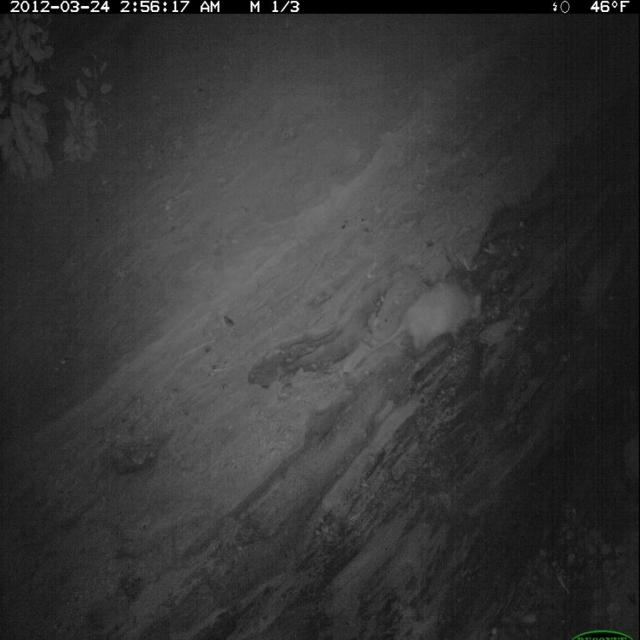opossum: (348, 276, 489, 379)
